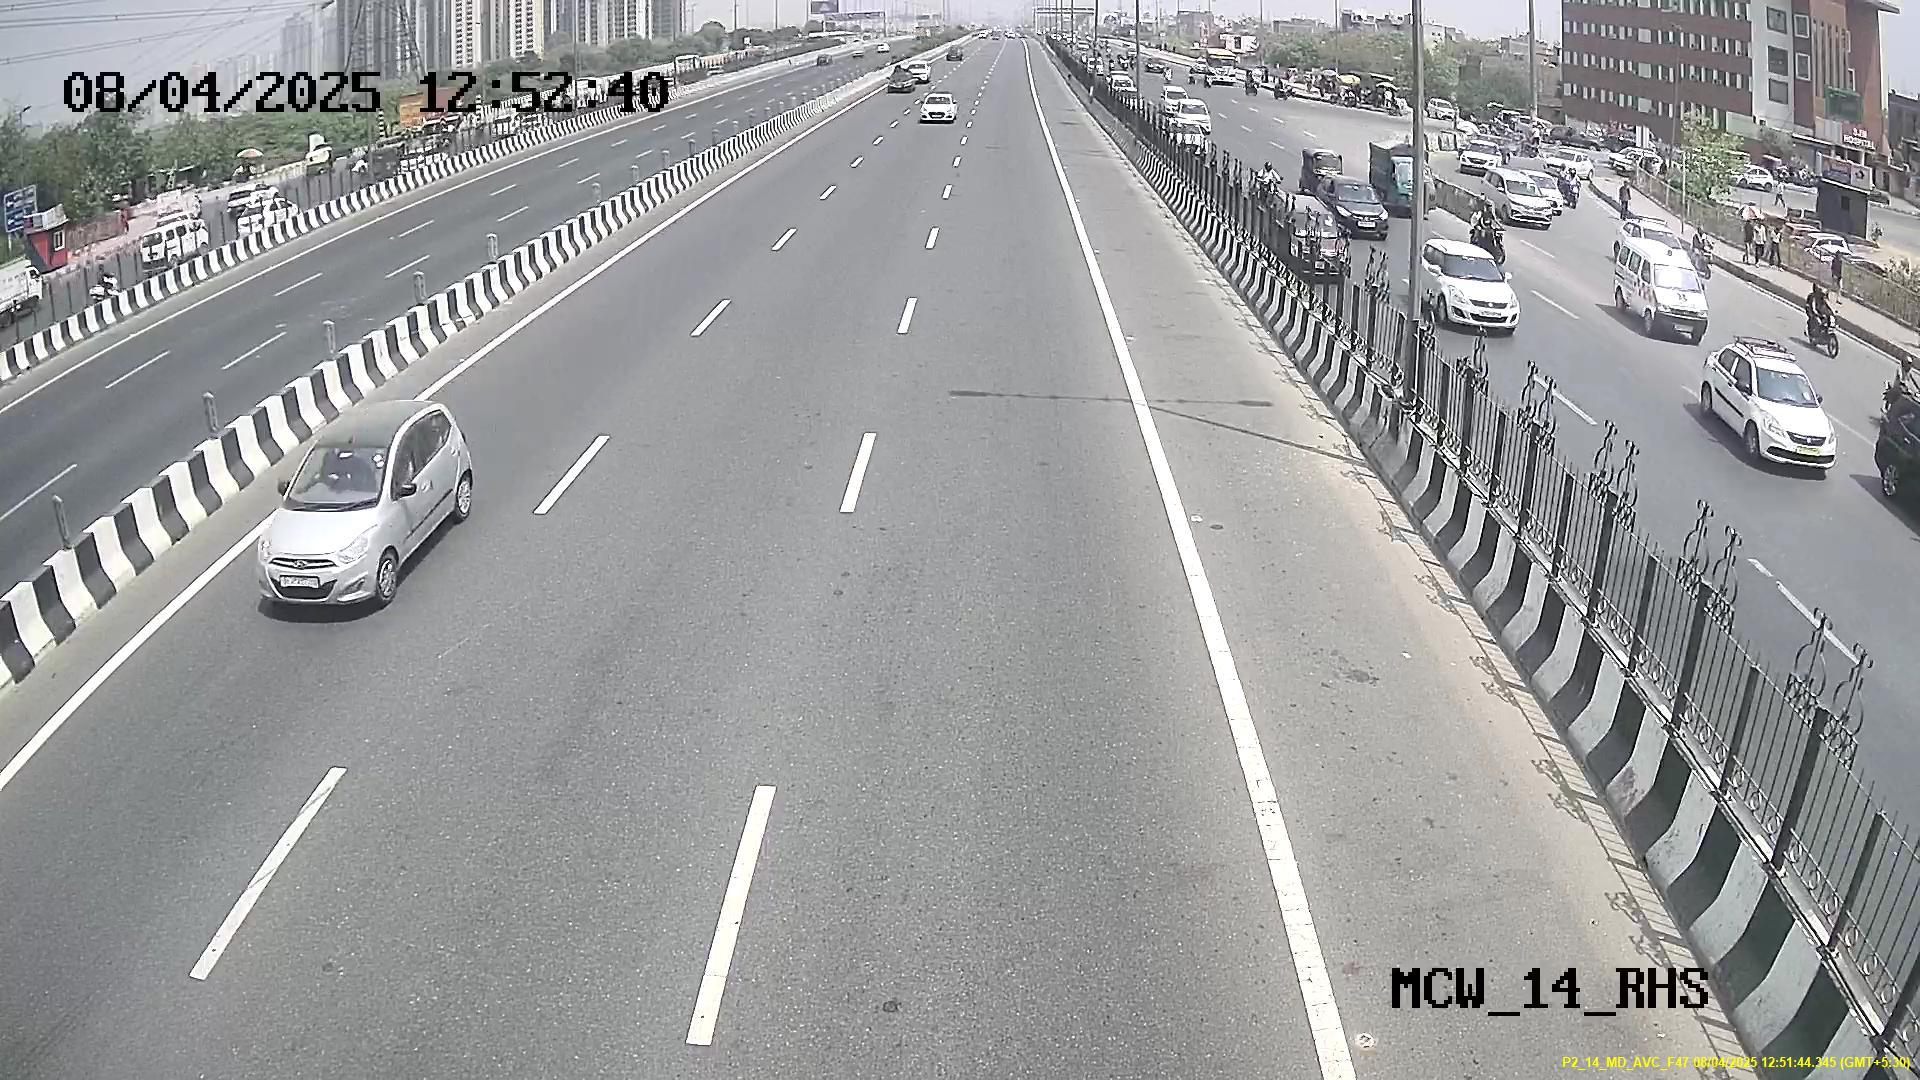car: (253, 425, 427, 613)
